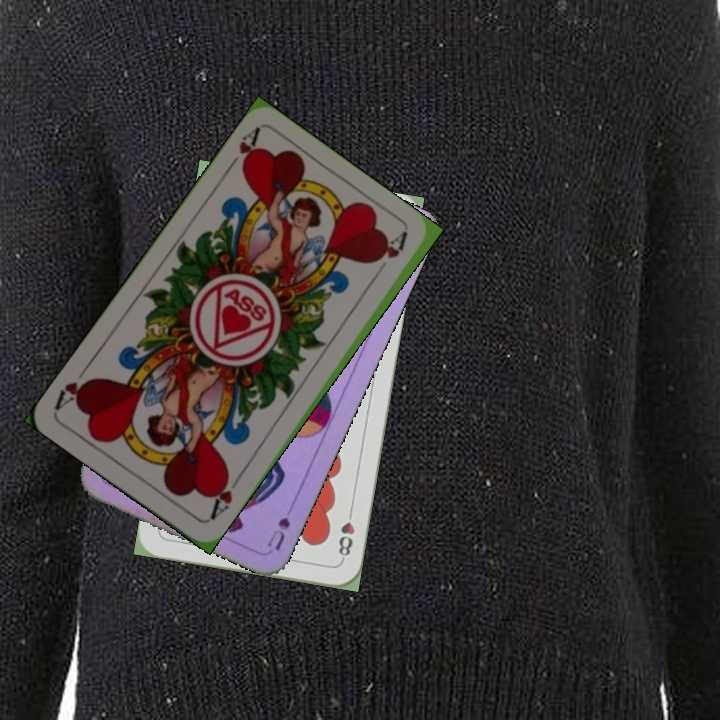H8: (334, 504, 357, 563)
HA: (205, 468, 244, 523), (220, 125, 262, 176)
SU: (263, 496, 298, 553)
